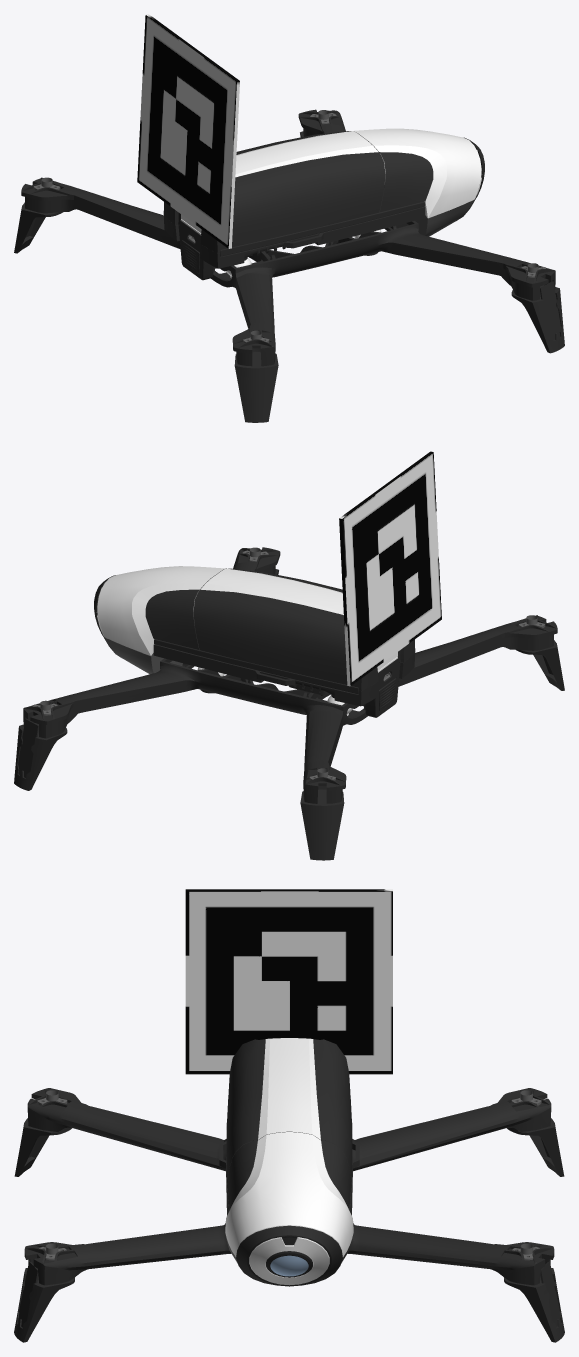
Rendered from bebop2_5.dae.
3 renders of one model, top to bottom at view 1: azimuth 30°, elevation 25°; view 2: azimuth 150°, elevation 25°; view 3: azimuth 270°, elevation 25°, orthographic. The views are drawn at different scales.
Parts seen in each view (by area): view 1: Drone, Cube.001; view 2: Drone, Cube.001; view 3: Drone, Cube.001.
Boxes of the visible parts, x1,y1,x2,y2 form: Drone: (14, 109, 564, 422); Cube.001: (137, 14, 239, 248); Drone: (14, 547, 564, 860); Cube.001: (339, 451, 441, 686); Drone: (14, 1038, 564, 1342); Cube.001: (185, 889, 392, 1074).
Bounding box in the file's own units: 0.22 × 0.2657 × 0.1657.
6 materials, 1 textured.
